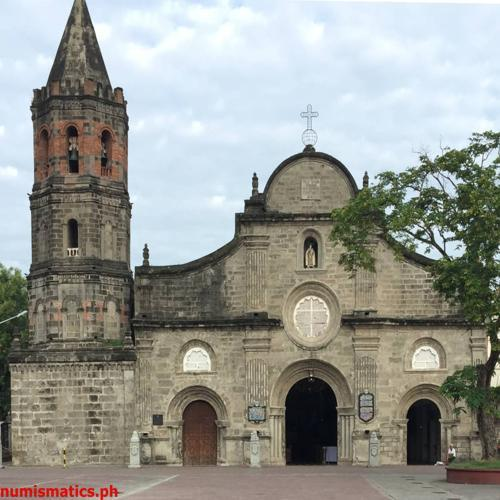Barasoain Church: (7, 1, 489, 468)
